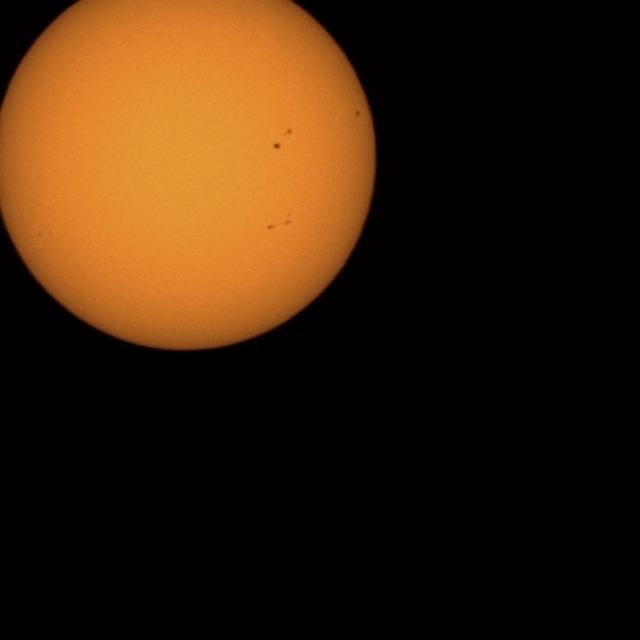sunspot: (266, 212, 294, 231), (272, 127, 292, 150), (282, 212, 293, 227), (283, 127, 293, 138), (272, 141, 282, 150), (266, 223, 277, 231), (354, 108, 361, 118)
